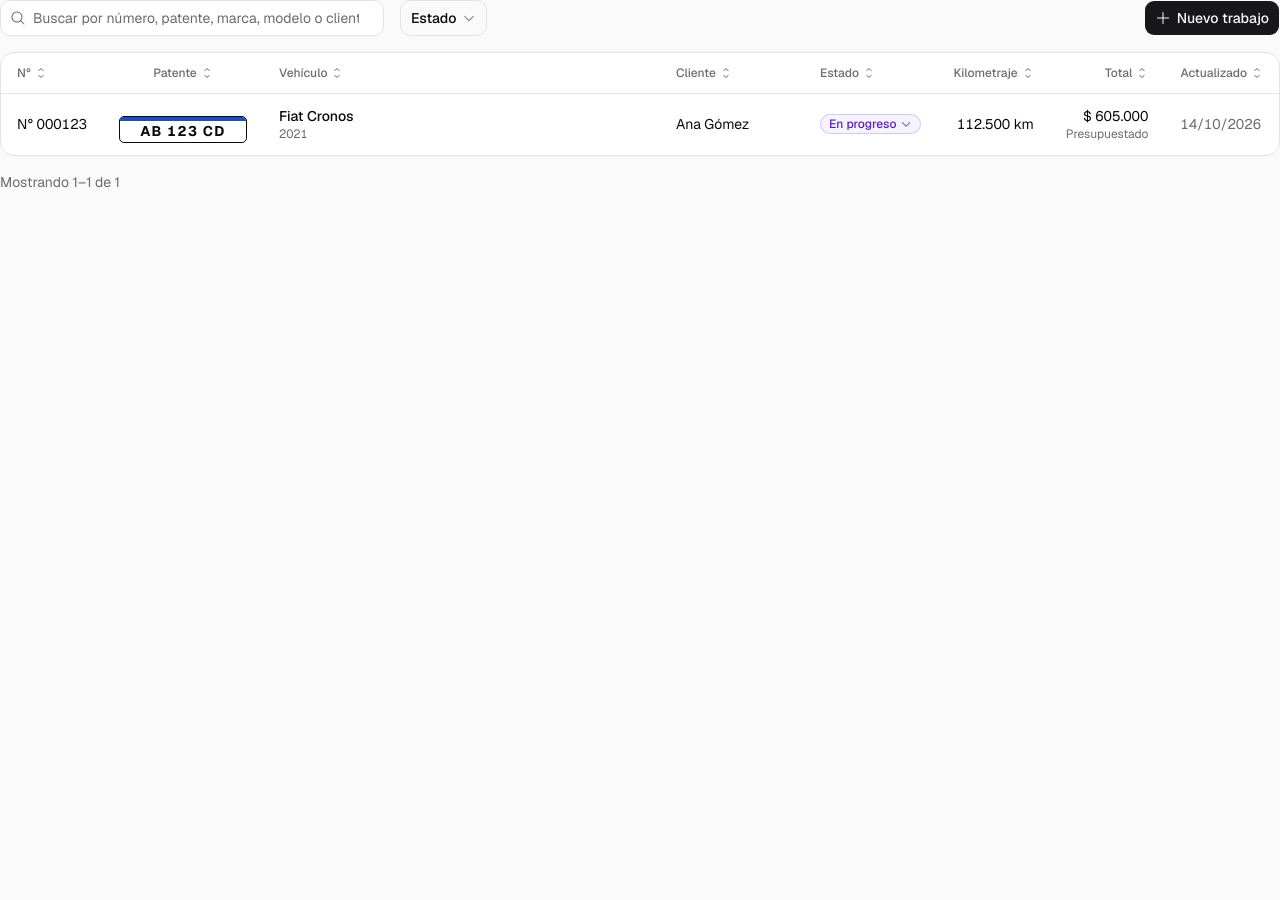
Test case: JobsListView on Inicio › lists all seven statuses with the window on the two closed ones, and the home counts
Click the 1st button "Estado". click: (444, 18)
box: x1=400 y1=0 x2=487 y2=36
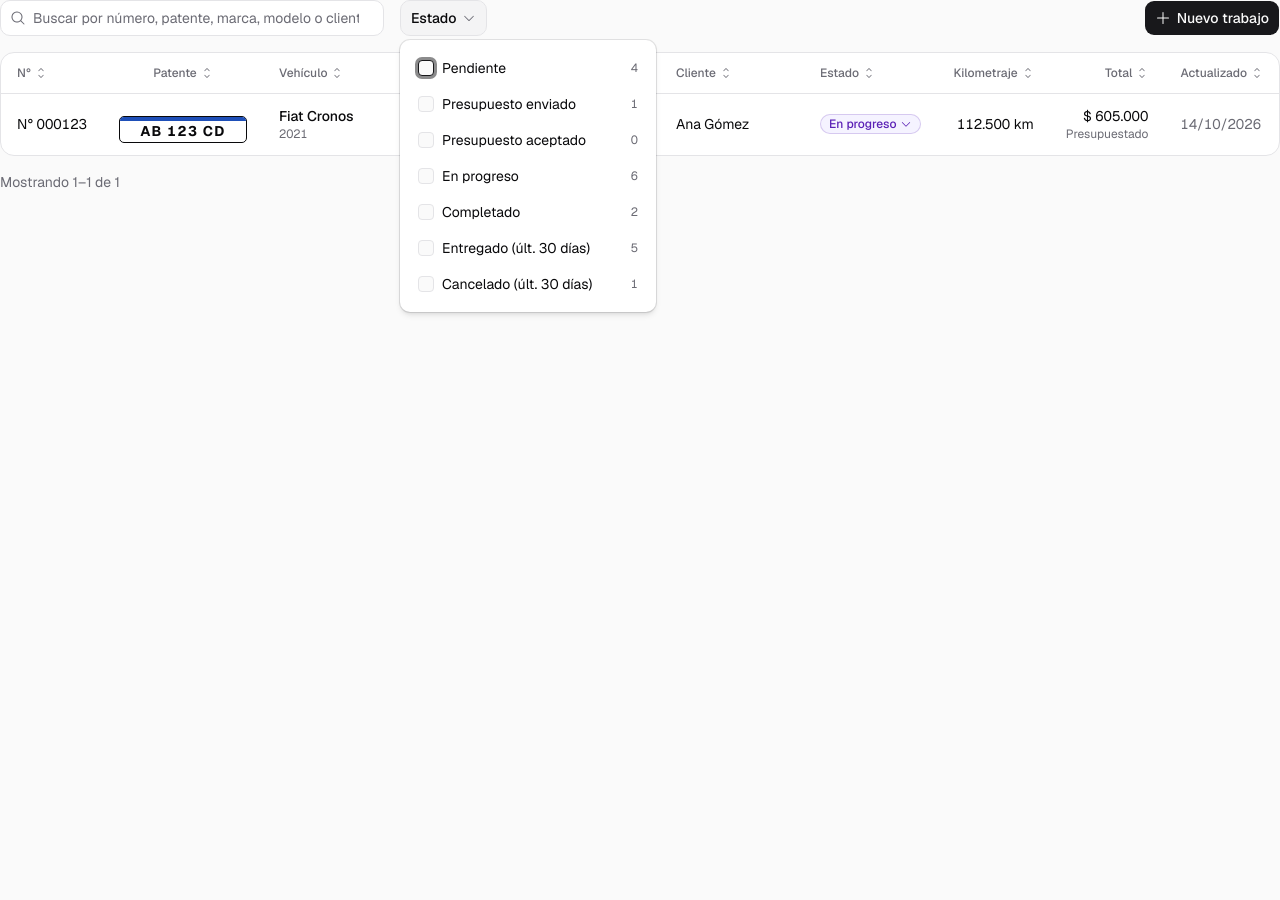
Expected: the checkbox named "Entregado, últimos 30 días" next to "Entregado (últ. 30 días)" is shown, x1=418 y1=240 x2=434 y2=256
Now the checkbox named "Pendiente" next to "Pendiente" is shown, box x1=418 y1=60 x2=434 y2=76
